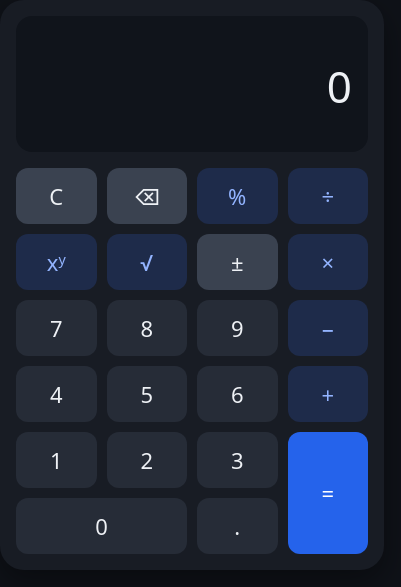
Test case: CalculatorPanel › computes 6 ÷ 3 = 2
This screenshot has width=401, height=587.
Click the button "6".
click(237, 394)  # box [197, 366, 278, 422]
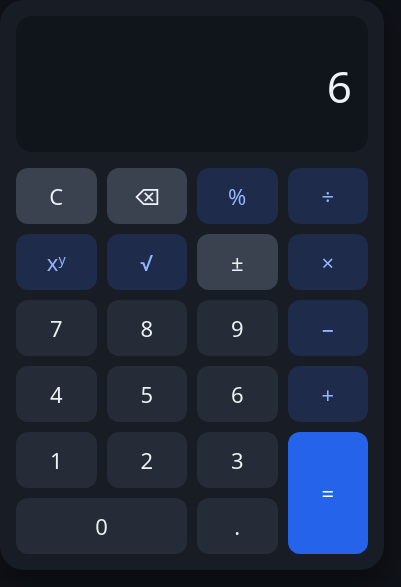
Click the button named "divide".
click(328, 196)  # box [288, 168, 368, 224]
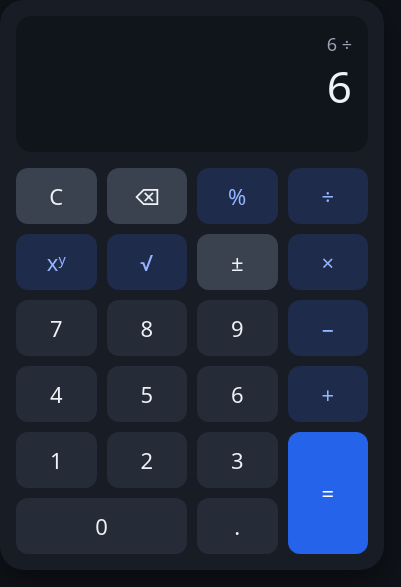
Now the text "6 ÷" is shown, box [327, 32, 352, 56]
Click the button "3".
click(237, 460)  # box [197, 432, 278, 488]
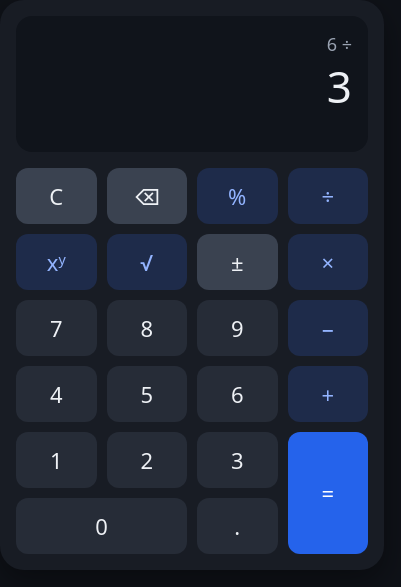
Now the text "3" is shown, box [327, 56, 352, 116]
Click the button named "equals".
click(328, 493)  # box [288, 432, 368, 554]
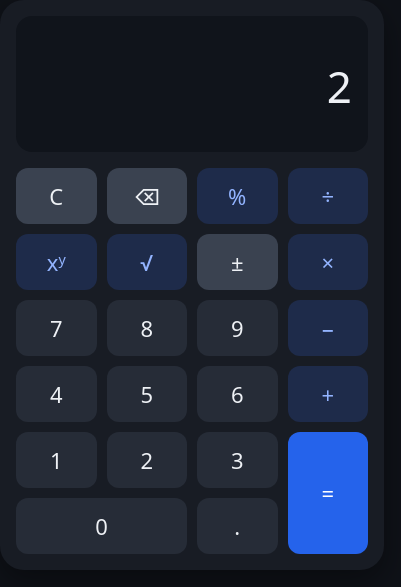
Now the text "2" is shown, box [327, 56, 352, 116]
